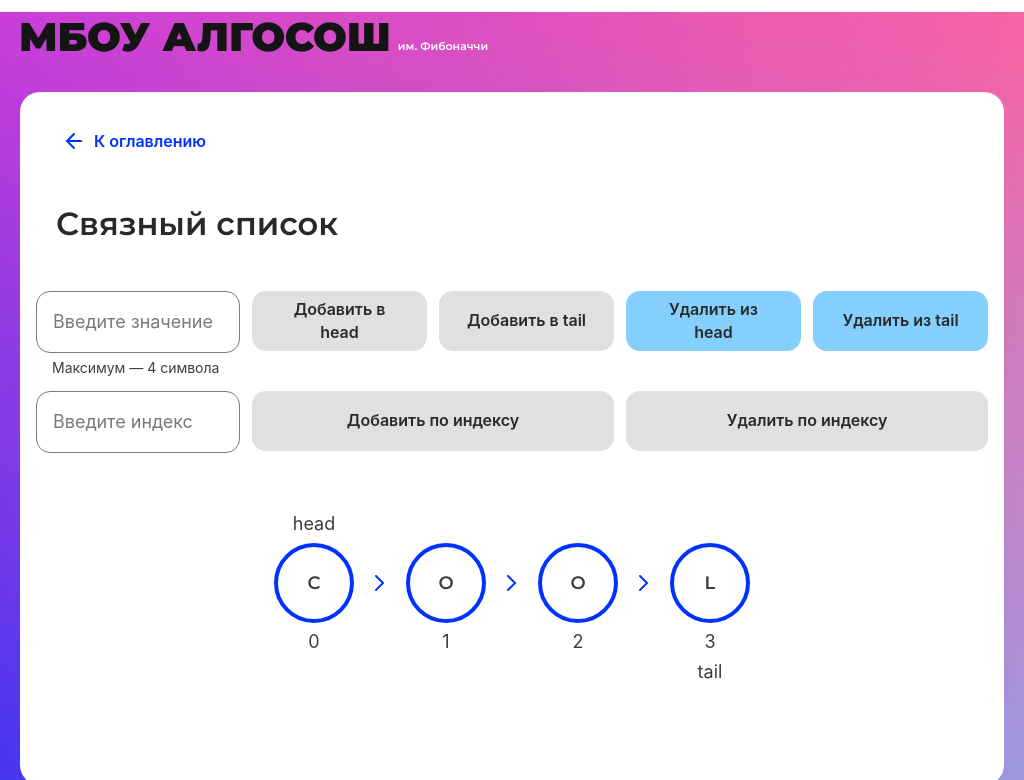
Test case: лист › удаляется из head
The image size is (1024, 780).
Click the button with test id "button-list-removeHead". click: [714, 321]
box: [626,291,801,351]
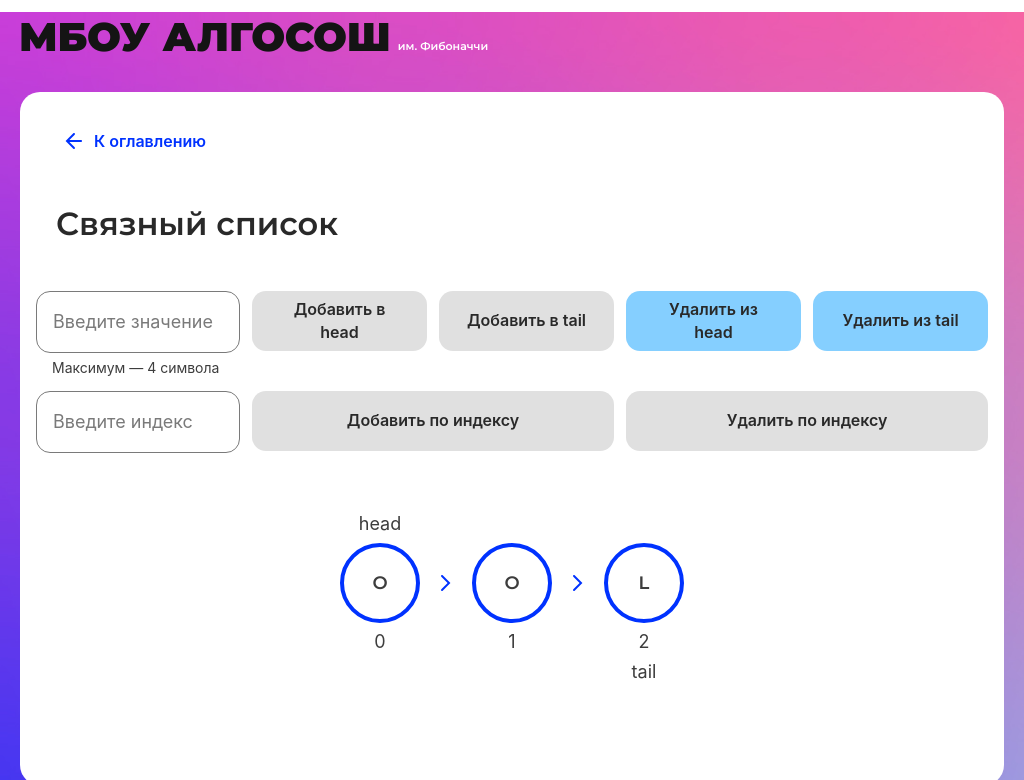
Check: the text with test id "circle-head" reads "head", box [359,513,401,534]
Check: the text with test id "circle" no longer shows "c"
